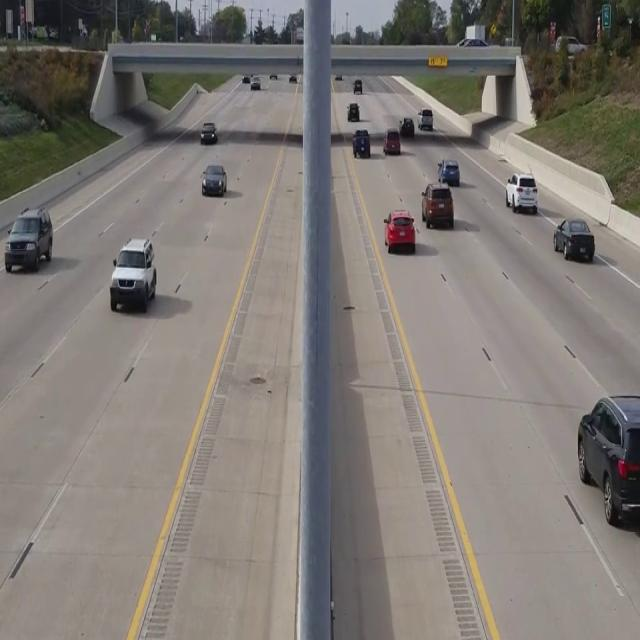car: (576, 392, 640, 527), (109, 237, 157, 313), (5, 205, 52, 273), (554, 218, 596, 262), (383, 210, 416, 253), (505, 173, 538, 213), (201, 162, 226, 195), (352, 129, 370, 158), (383, 128, 401, 154), (199, 121, 217, 143)
